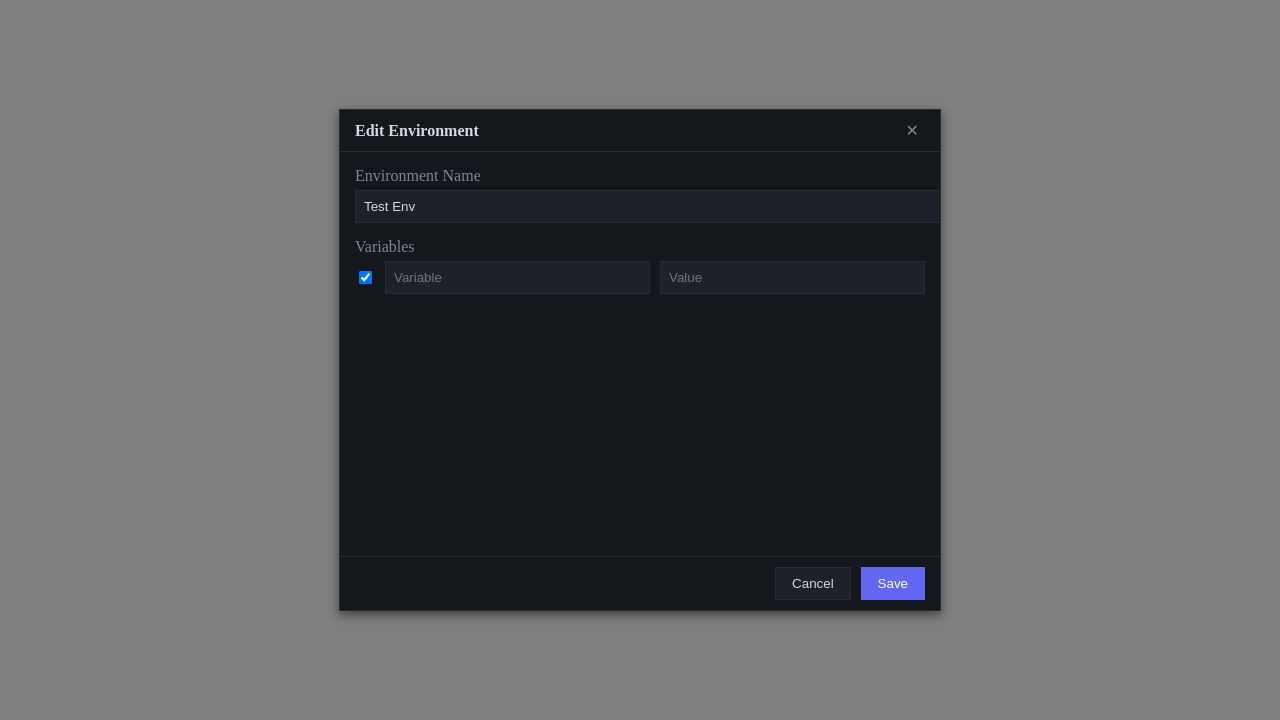
Test: EnvironmentModal › adds new row if value is present but key empty in last row
Step 1. Type "V" into the field with placeholder "Value" → (792, 278), box top-left (660, 261), bottom-right (925, 294)
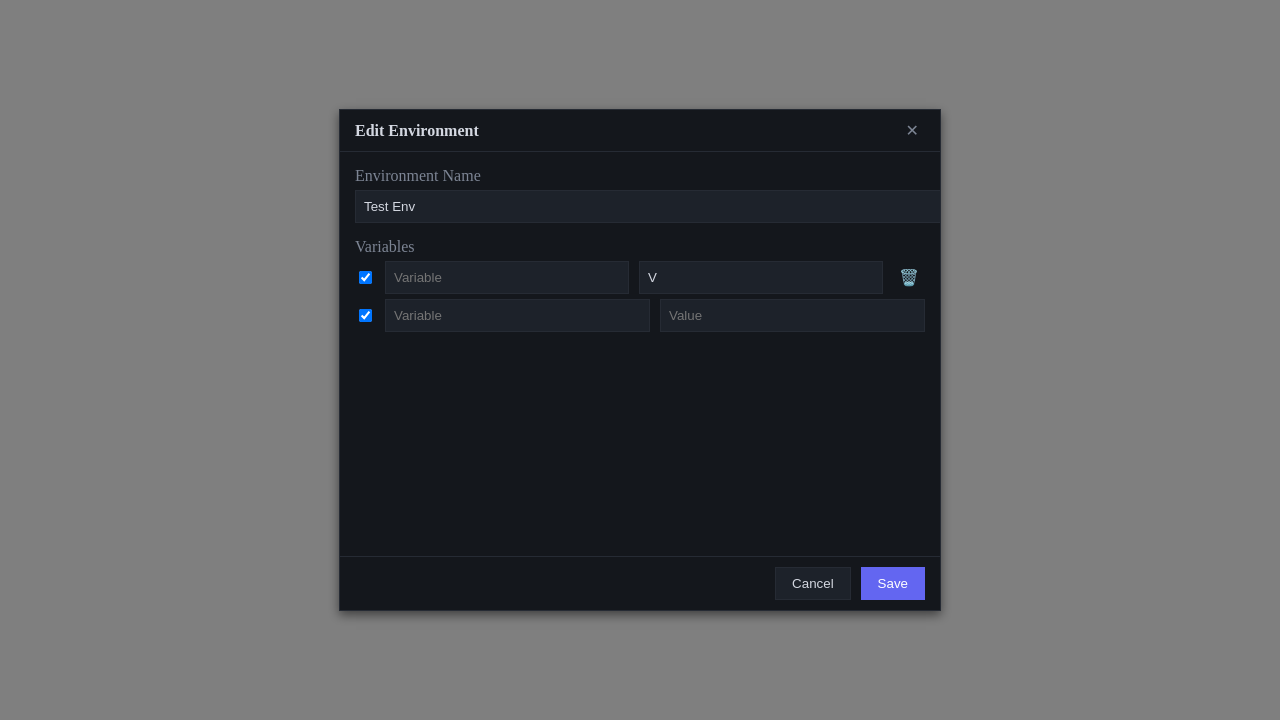
expect the number of fields with placeholder "Variable" is 2: met, box top-left (385, 261), bottom-right (629, 294); top-left (385, 299), bottom-right (650, 332)
